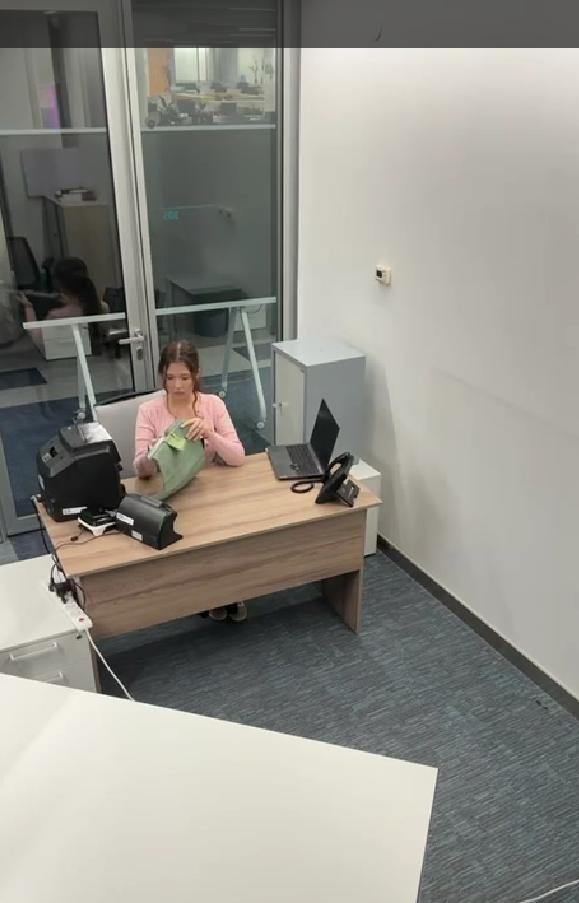cash-in-transit bag: (142, 426, 213, 498)
counter: (32, 416, 127, 533)
key_in: (266, 384, 298, 426)
uv_lamp: (94, 490, 190, 546)
